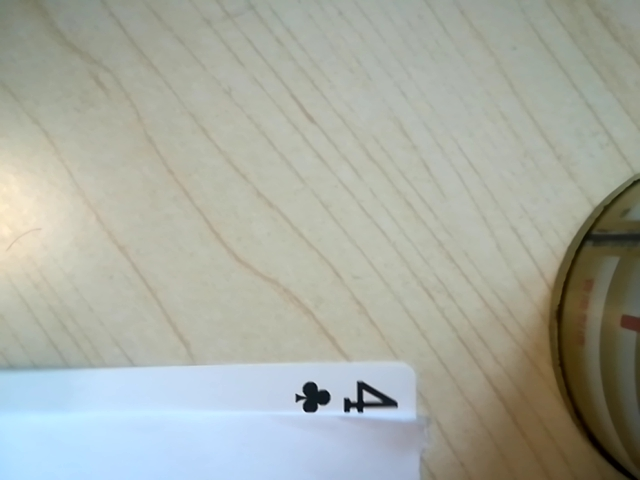mh 4: (278, 369, 414, 429)
